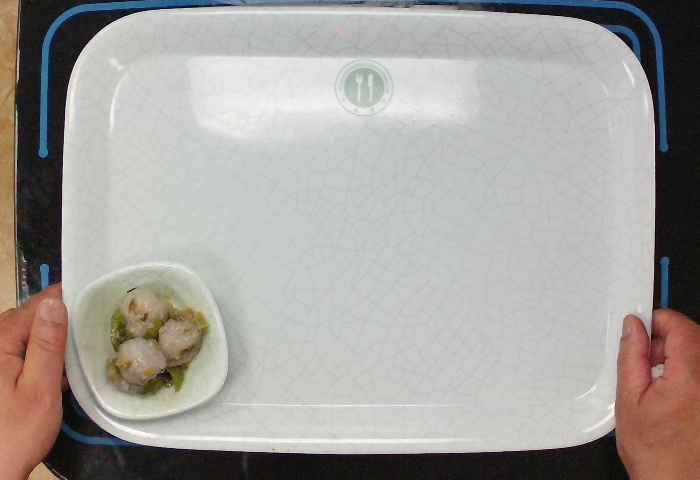JYsf-Si_Fang_Die: (70, 259, 230, 422)
